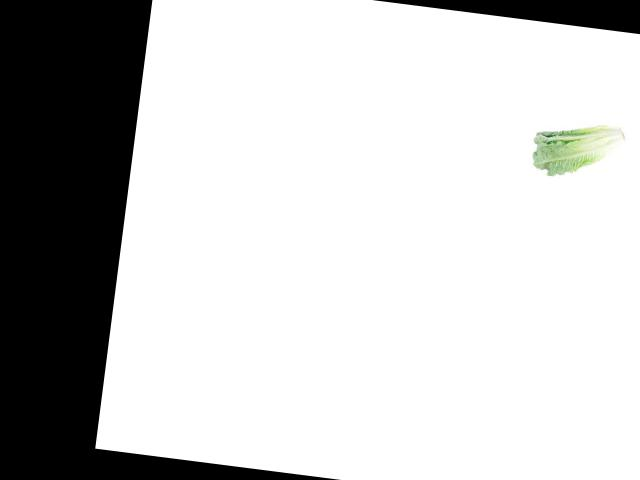lettuce: (527, 113, 632, 183)
